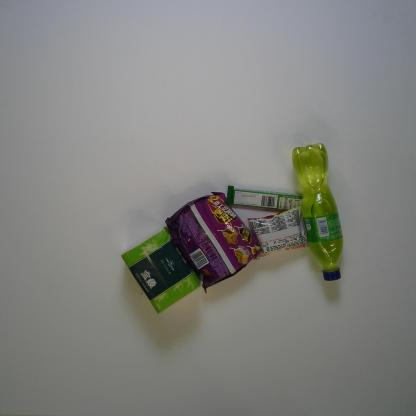Chocolate: (225, 183, 303, 213)
Dessert: (247, 204, 309, 260)
Drink: (290, 140, 346, 284)
Instant Noodles: (163, 191, 265, 294)
Tissue: (119, 225, 201, 316)
